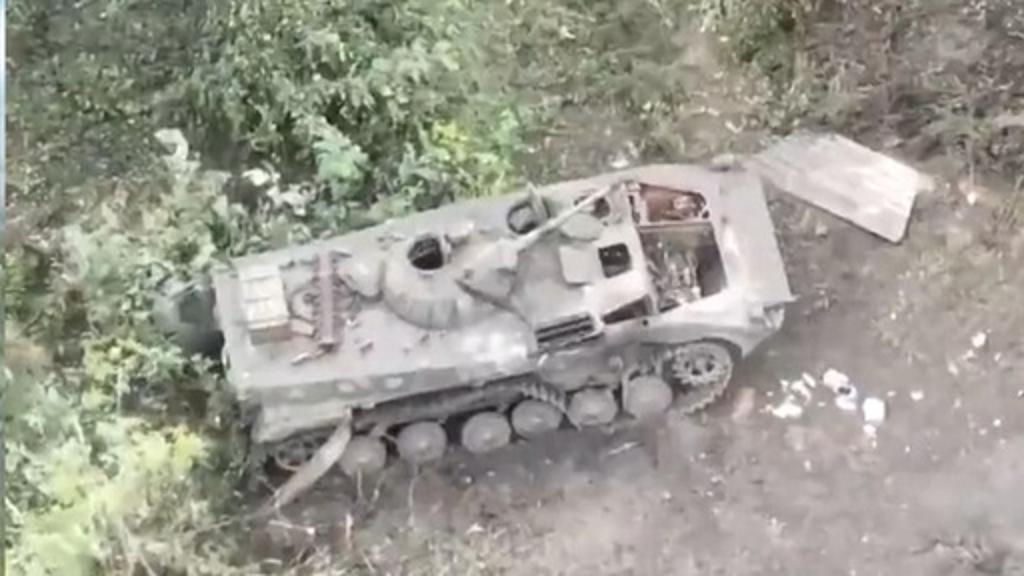APC-IFV: (186, 144, 796, 448)
